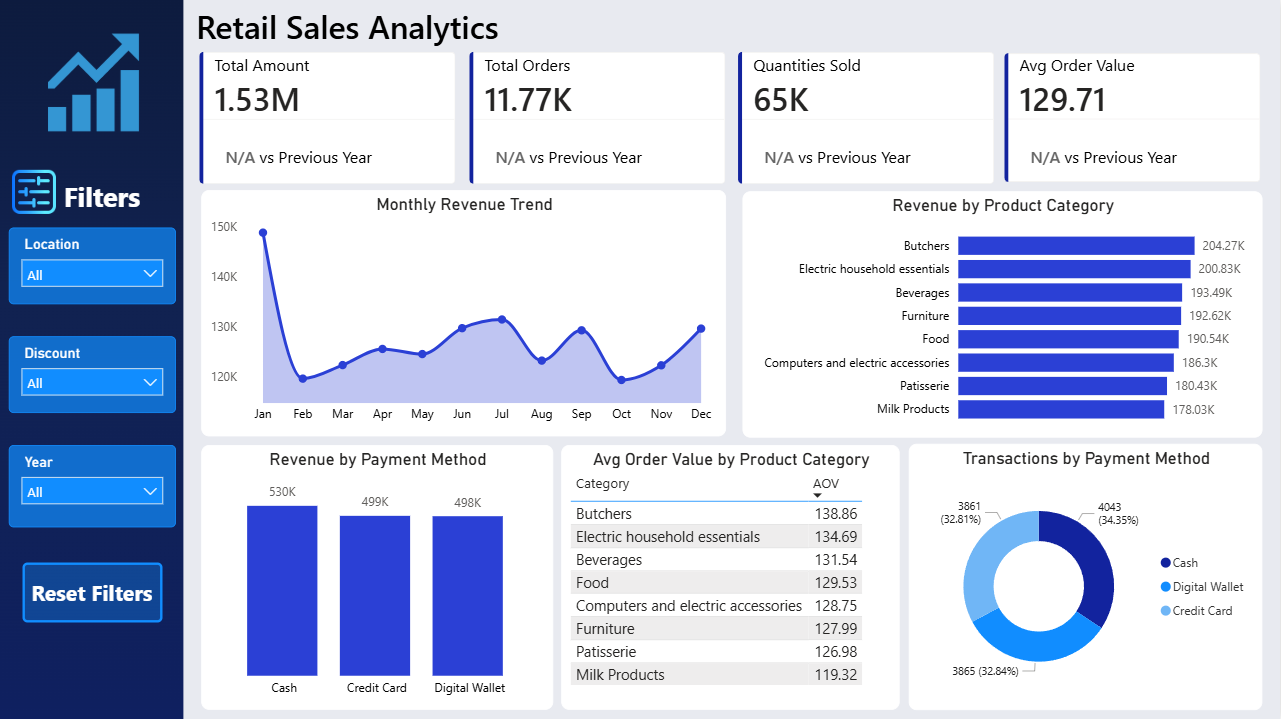

This screenshot's page, from the dashboard's own definition file:
{"tool":"powerbi","page":{"name":"Page 1","canvas":[1280,720],"ordinal":0},"visuals":[{"type":"textbox","box":[191.9,0,340.7,60.5],"z":0},{"type":"areaChart","title":"Monthly Revenue Trend","fields":{"Y":["cleaned_data.Total Amount"],"Category":["cleaned_data.Month Abbreviation"]},"box":[201.2,190,525,246.2],"z":1000},{"type":"clusteredBarChart","title":"Revenue by Product Category","fields":{"Y":["cleaned_data.Total Amount"],"Category":["cleaned_data.Category"]},"box":[742.5,191.2,520,246.2],"z":2000},{"type":"tableEx","title":"Avg Order Value by Product Category","fields":{"Values":["cleaned_data.Category","cleaned_data.Avg Transaction Value"]},"box":[561.2,445,338.8,265],"z":3000},{"type":"clusteredColumnChart","title":"Revenue by Payment Method","fields":{"Category":["cleaned_data.Payment Method"],"Y":["cleaned_data.Total Amount"]},"box":[201.5,445.3,351.8,264.9],"z":4000},{"type":"donutChart","title":"Transactions by Payment Method","fields":{"Category":["cleaned_data.Payment Method"],"Y":["CountNonNull(cleaned_data.Payment Method)"]},"box":[909.3,444.2,353.5,266.3],"z":5000},{"type":"slicer","fields":{"Values":["cleaned_data.Transaction Date.Variation.Date Hierarchy.Year"]},"box":[8.9,445.3,167,82.4],"z":6000},{"type":"slicer","fields":{"Values":["cleaned_data.Discount Applied"]},"box":[8.9,336.2,167,76.8],"z":7000},{"type":"slicer","fields":{"Values":["cleaned_data.Location"]},"box":[8.9,227.1,167,76.8],"z":8000},{"type":"cardVisual","fields":{"Data":["cleaned_data.Total Amount"]},"box":[182,34.9,290,166.3],"z":9000},{"type":"cardVisual","fields":{"Data":["Count(cleaned_data.Transaction ID)"]},"box":[452.3,34.9,290,166.3],"z":10000},{"type":"cardVisual","fields":{"Data":["cleaned_data.Quantites Sold"]},"box":[721,34.9,290,166.3],"z":11000},{"type":"cardVisual","fields":{"Data":["cleaned_data.Avg Transaction Value"]},"box":[988,36,290,164],"z":12000},{"type":"image","box":[8.9,164.8,50.1,53.4],"z":13000},{"type":"textbox","box":[58.8,173.8,121.2,53.8],"z":14000},{"type":"actionButton","box":[22.5,562.5,140,60],"z":15000},{"type":"image","box":[34.5,30.1,116.9,104.6],"z":16000}]}

Visuals, with their boxes in screenshot pixels (x1, y1, x2, y2), scaled from the page's 1280x720 canvas onto the 1281x719 screenshot:
textbox: BBox(192, 0, 533, 60)
"Monthly Revenue Trend" areaChart: BBox(201, 190, 727, 436)
"Revenue by Product Category" clusteredBarChart: BBox(743, 191, 1263, 437)
"Avg Order Value by Product Category" tableEx: BBox(562, 444, 901, 709)
"Revenue by Payment Method" clusteredColumnChart: BBox(202, 445, 554, 709)
"Transactions by Payment Method" donutChart: BBox(910, 444, 1264, 710)
slicer - cleaned_data.Transaction Date.Variation.Date Hierarchy.Year: BBox(9, 445, 176, 527)
slicer - cleaned_data.Discount Applied: BBox(9, 336, 176, 412)
slicer - cleaned_data.Location: BBox(9, 227, 176, 303)
cardVisual - cleaned_data.Total Amount: BBox(182, 35, 472, 201)
cardVisual - Count(cleaned_data.Transaction ID): BBox(453, 35, 743, 201)
cardVisual - cleaned_data.Quantites Sold: BBox(722, 35, 1012, 201)
cardVisual - cleaned_data.Avg Transaction Value: BBox(989, 36, 1279, 200)
image: BBox(9, 165, 59, 218)
textbox: BBox(59, 174, 180, 227)
actionButton: BBox(23, 562, 163, 622)
image: BBox(35, 30, 152, 135)
